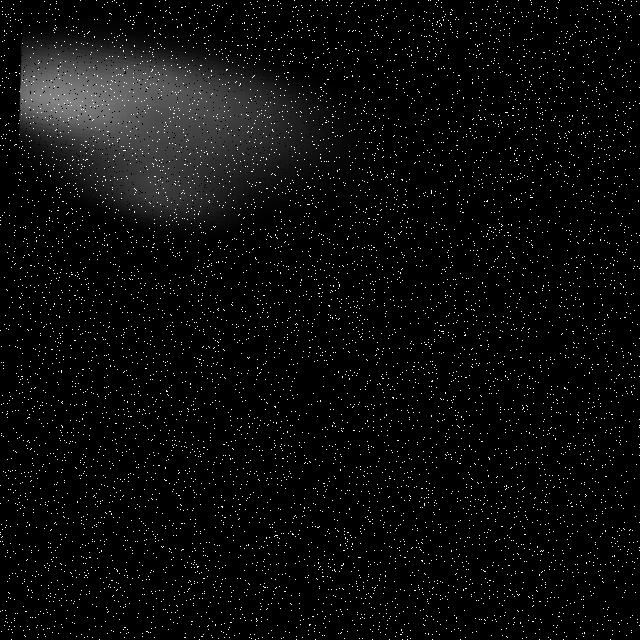person: (8, 1, 532, 282)
